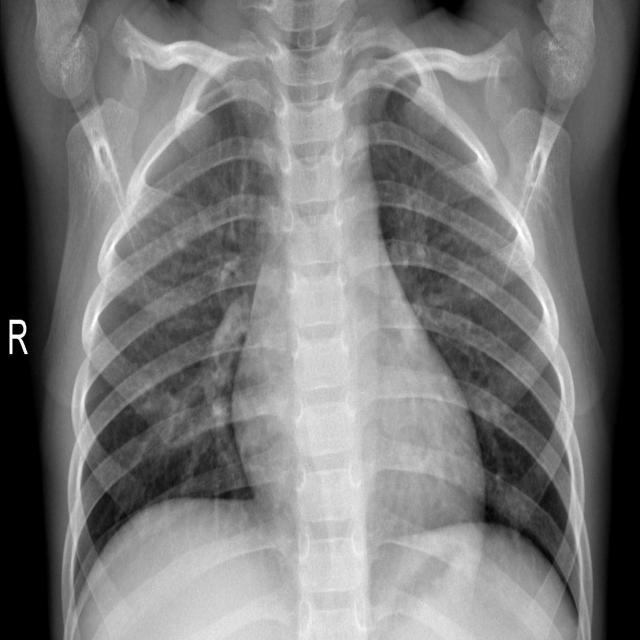no-pneumonia: (4, 1, 636, 640)
